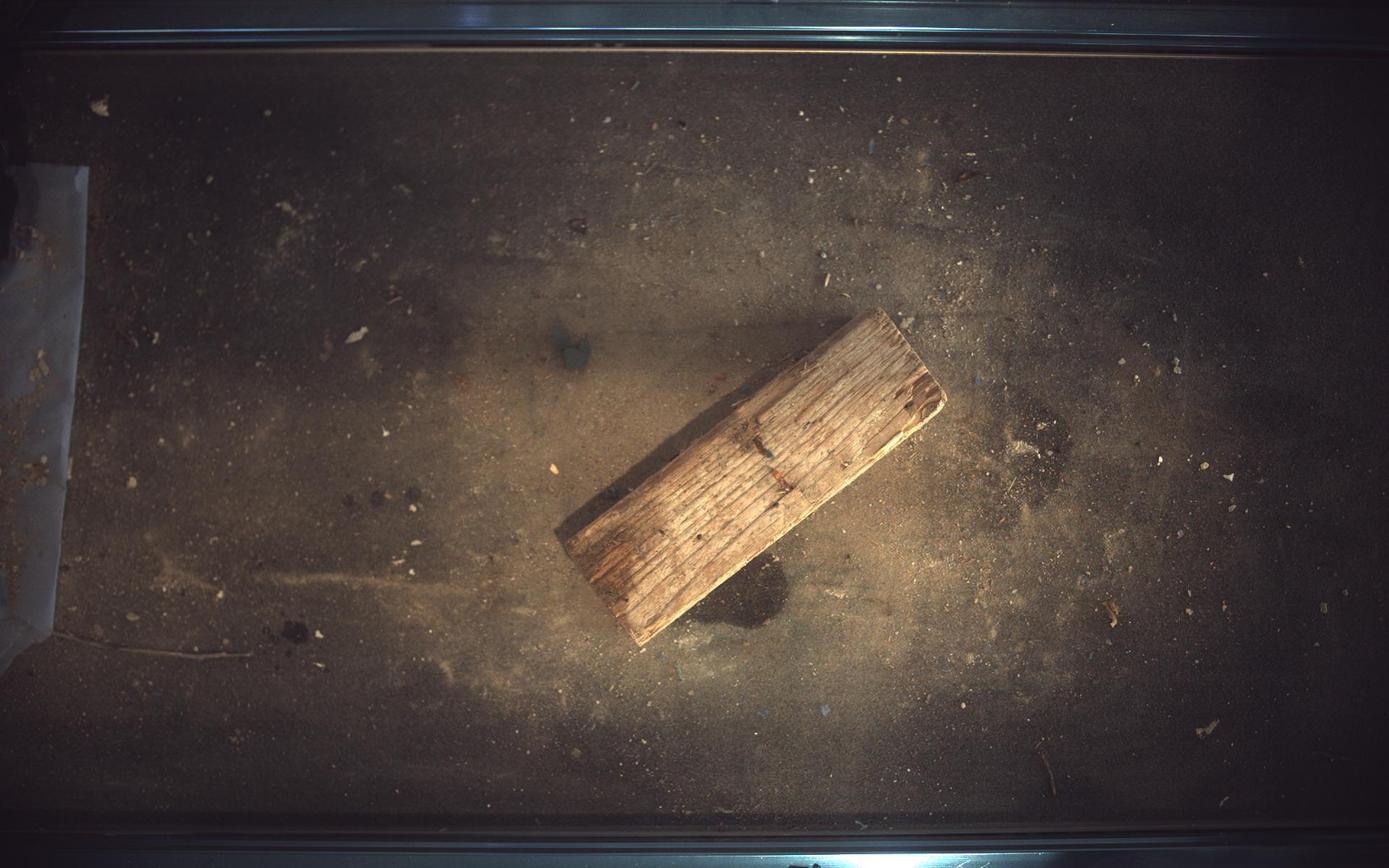wood: (566, 309, 948, 646)
